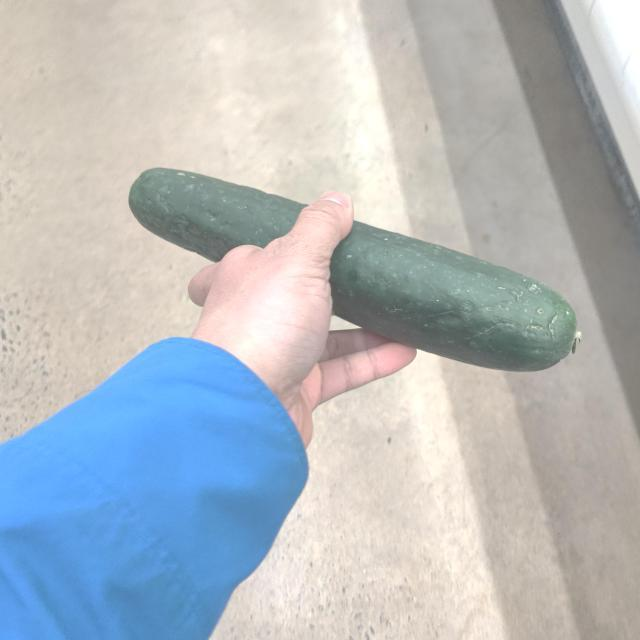Cucumber: (125, 147, 588, 373)
